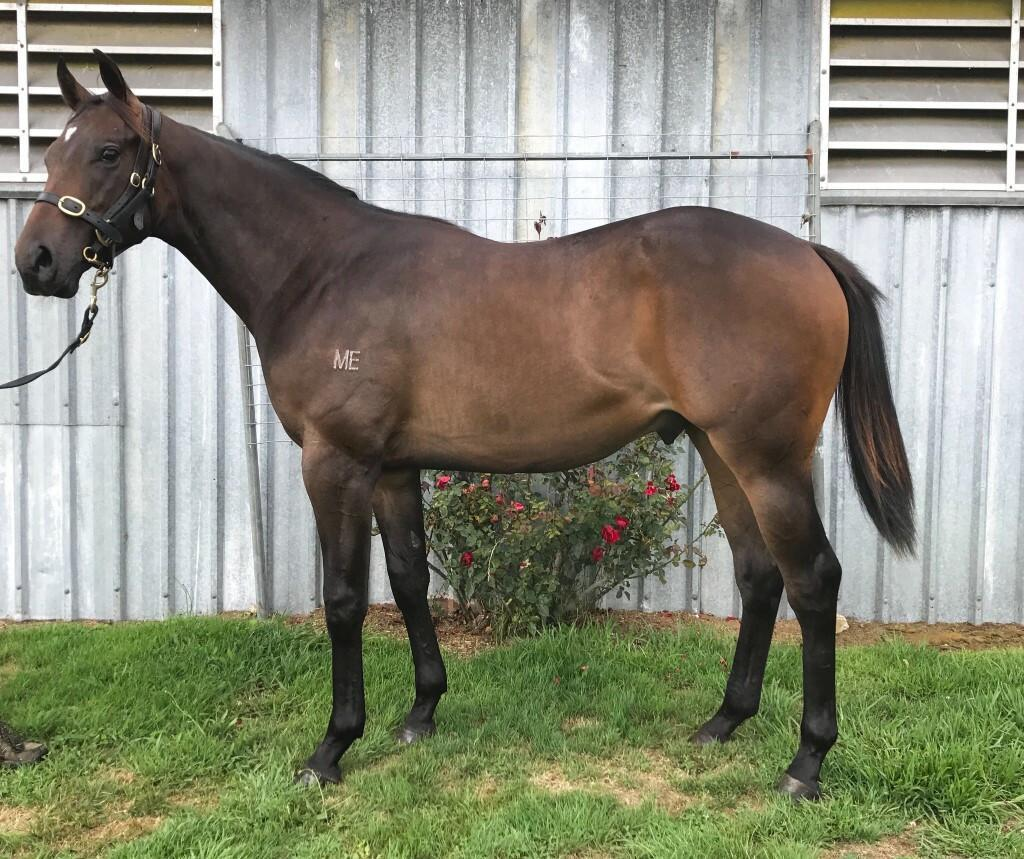horse: (4, 40, 928, 804)
